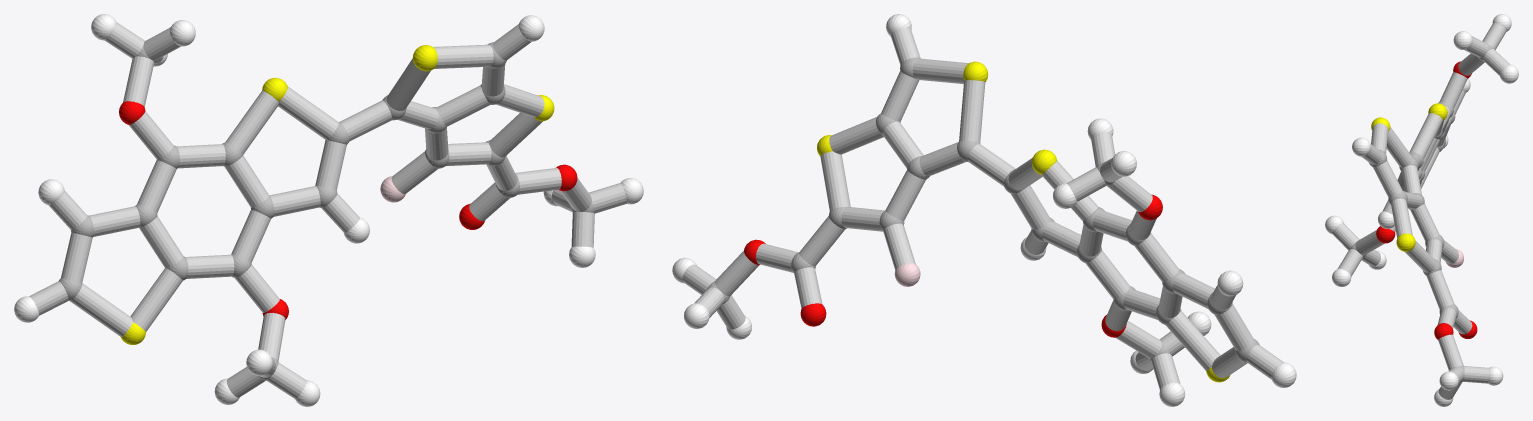
Rendered from color.glb.
The picture shows the model from 3 angles, left to right: view 1: azimuth 30°, elevation 25°; view 2: azimuth 150°, elevation 25°; view 3: azimuth 270°, elevation 25°; orthographic projection. The views are drawn at different scales.
Visible parts, largest first — view 1: grp15205, grp8689, grp1, grp7241, grp13395; view 2: grp15205, grp8689, grp1, grp13395, grp7241; view 3: grp15205, grp8689, grp1, grp13395, grp7241.
Part boxes in pixels (x1,y1,x2,y2): grp15205: (29, 22, 627, 398); grp8689: (14, 14, 643, 406); grp1: (58, 42, 594, 380); grp7241: (121, 45, 554, 344); grp13395: (119, 101, 577, 319); grp15205: (682, 28, 1283, 389); grp8689: (672, 14, 1296, 406); grp1: (707, 57, 1259, 362); grp13395: (744, 194, 1162, 337); grp7241: (817, 61, 1230, 382); grp15205: (1332, 23, 1510, 399); grp8689: (1325, 14, 1518, 406); grp1: (1350, 44, 1493, 382); grp13395: (1376, 61, 1477, 339); grp7241: (1371, 103, 1447, 251).
Bounding box in the file's own units: 16.46 × 8.33 × 6.04.
